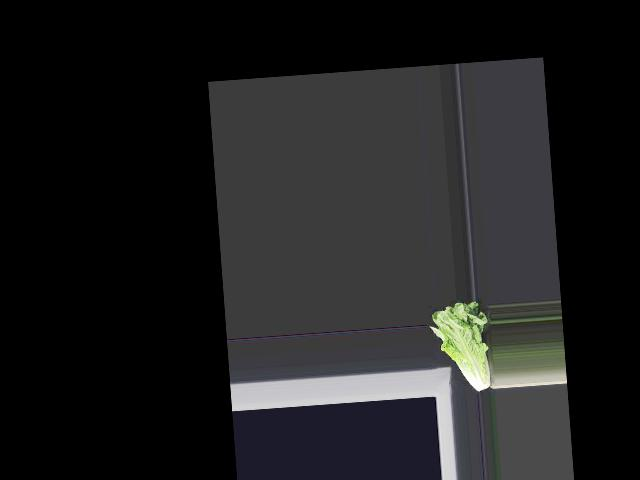lettuce: (429, 299, 493, 395)
